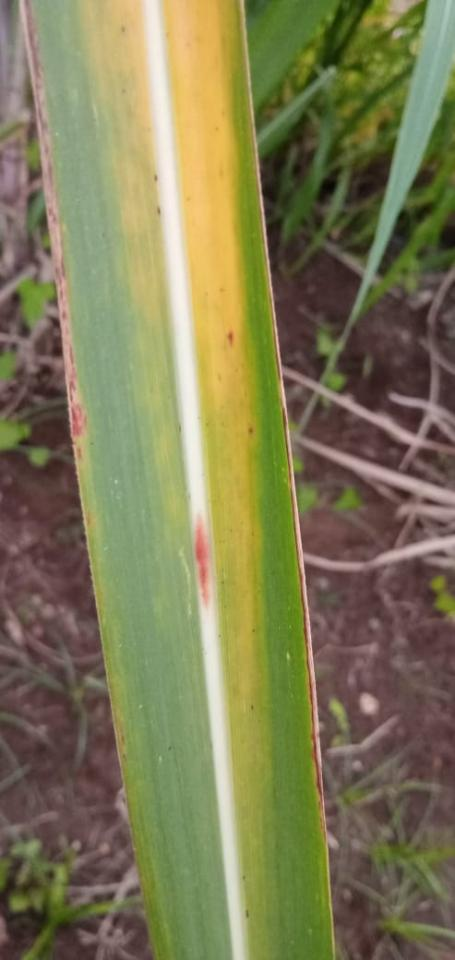RedRot: (194, 512, 211, 607)
Rust: (224, 329, 234, 347), (245, 426, 256, 439), (217, 286, 228, 293), (155, 205, 162, 215), (177, 423, 182, 435), (163, 31, 171, 38), (120, 87, 127, 95), (120, 25, 126, 34), (153, 173, 158, 183), (218, 169, 223, 178), (214, 126, 221, 132), (221, 109, 224, 119), (204, 291, 209, 297)
Yellow: (162, 0, 258, 552), (104, 0, 165, 309)
